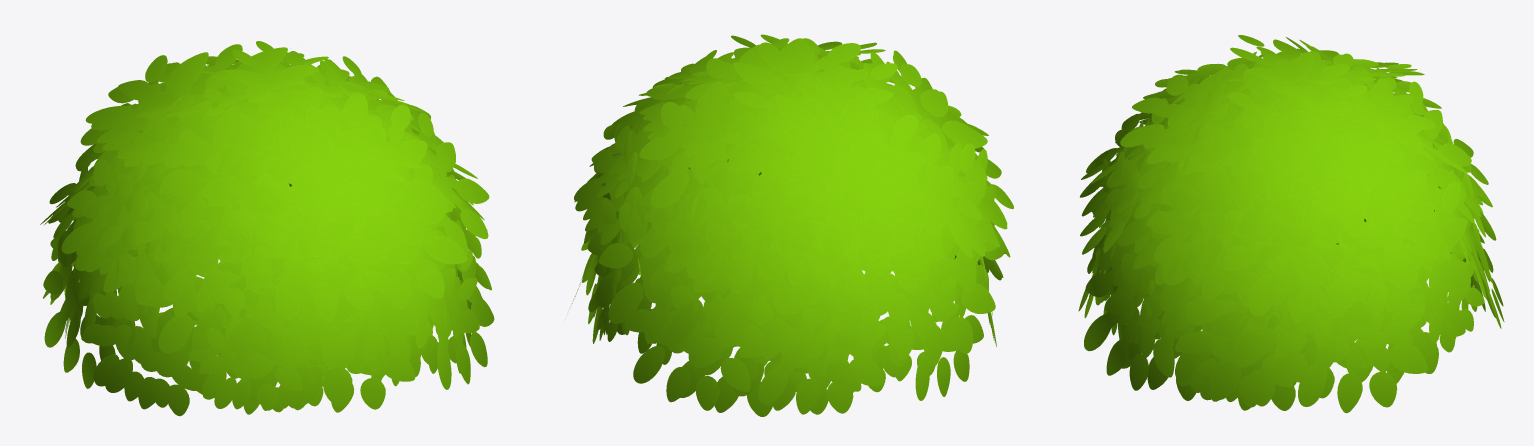
File: bush_1.glb
The picture shows the model from 3 angles, left to right: view 1: azimuth 30°, elevation 25°; view 2: azimuth 150°, elevation 25°; view 3: azimuth 270°, elevation 25°; orthographic projection. The views are drawn at different scales.
Visible parts, largest first — view 1: Bush; view 2: Bush; view 3: Bush.
Part boxes in pixels (bbox=[...]): Bush: bbox=[40, 41, 494, 416]; Bush: bbox=[567, 34, 1013, 416]; Bush: bbox=[1078, 35, 1504, 413].
Bounding box in the file's own units: 1.09 × 0.6916 × 1.05.
1 material, 1 textured.
